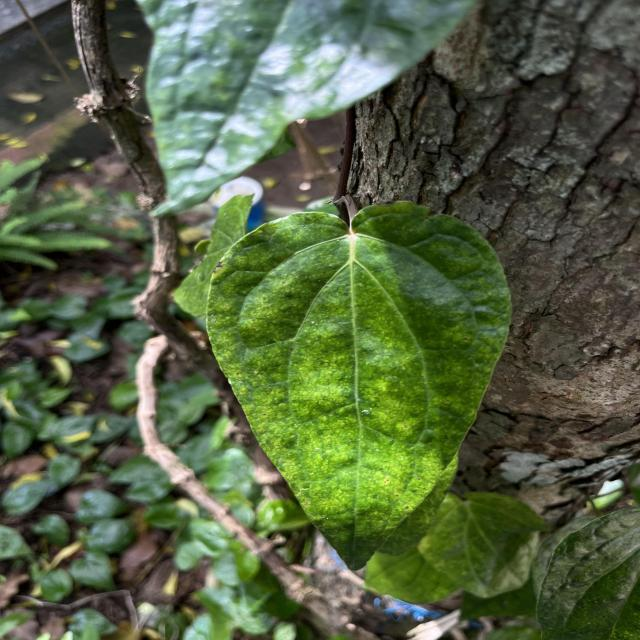Piper betle: (203, 197, 514, 574)
